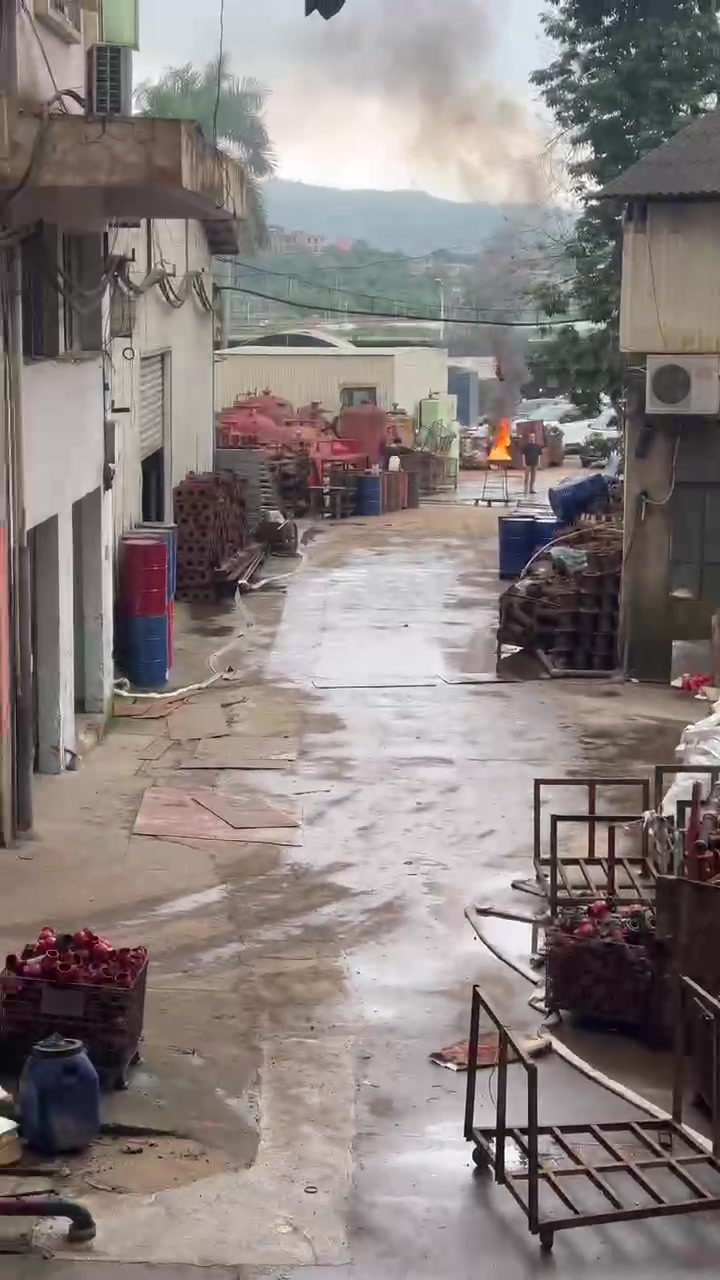fire: (488, 418, 511, 459)
